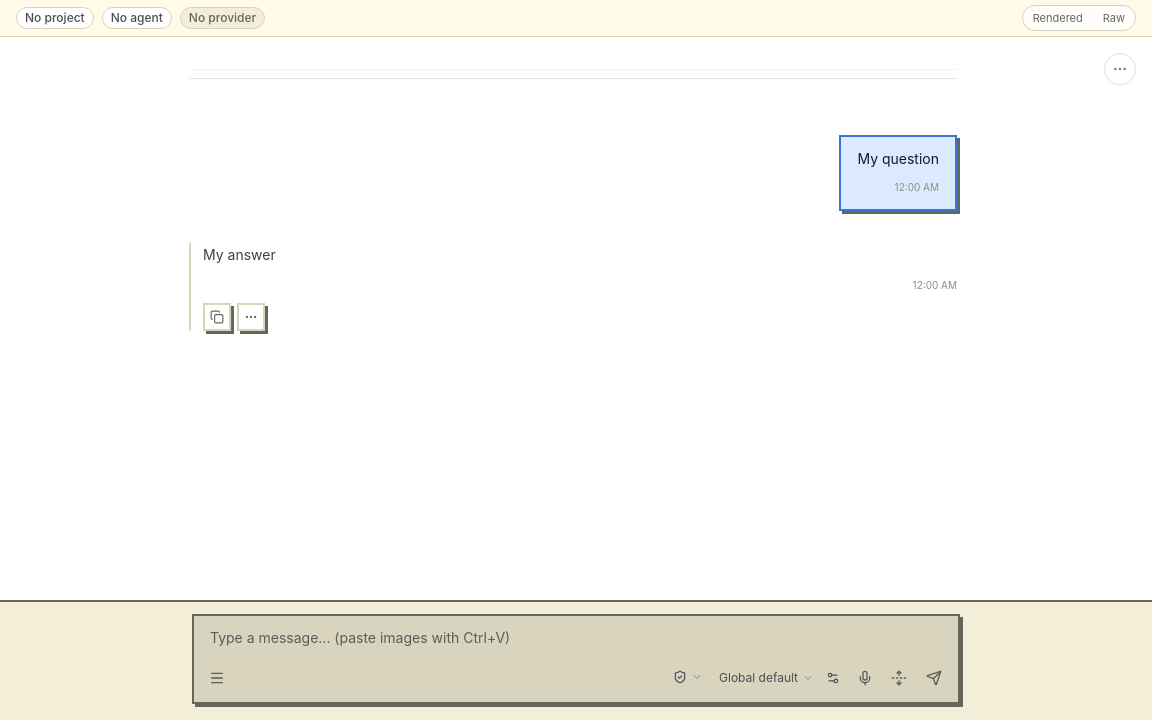
ChatWindow — Regenerate & Edit › allows canceling edit mode and restores messages
Expected: the text "My answer" is shown, 203,246 -> 276,263
Double-click the text "My question" at (898, 159), box 857,149 -> 939,169
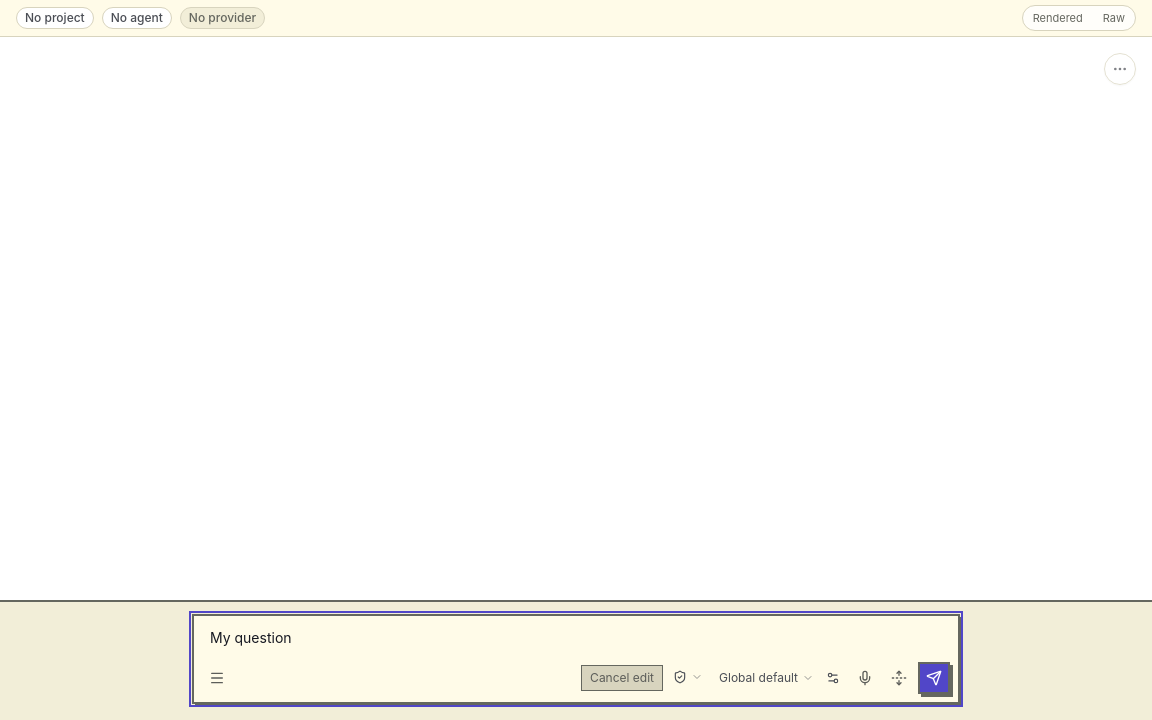
Now the text box named "message input" holds "My question", box 194,616 -> 958,656
Now the button "Cancel edit" is shown
Now the text "My answer" is gone
Click the button "Cancel edit" at (622, 678), box 581,665 -> 663,691
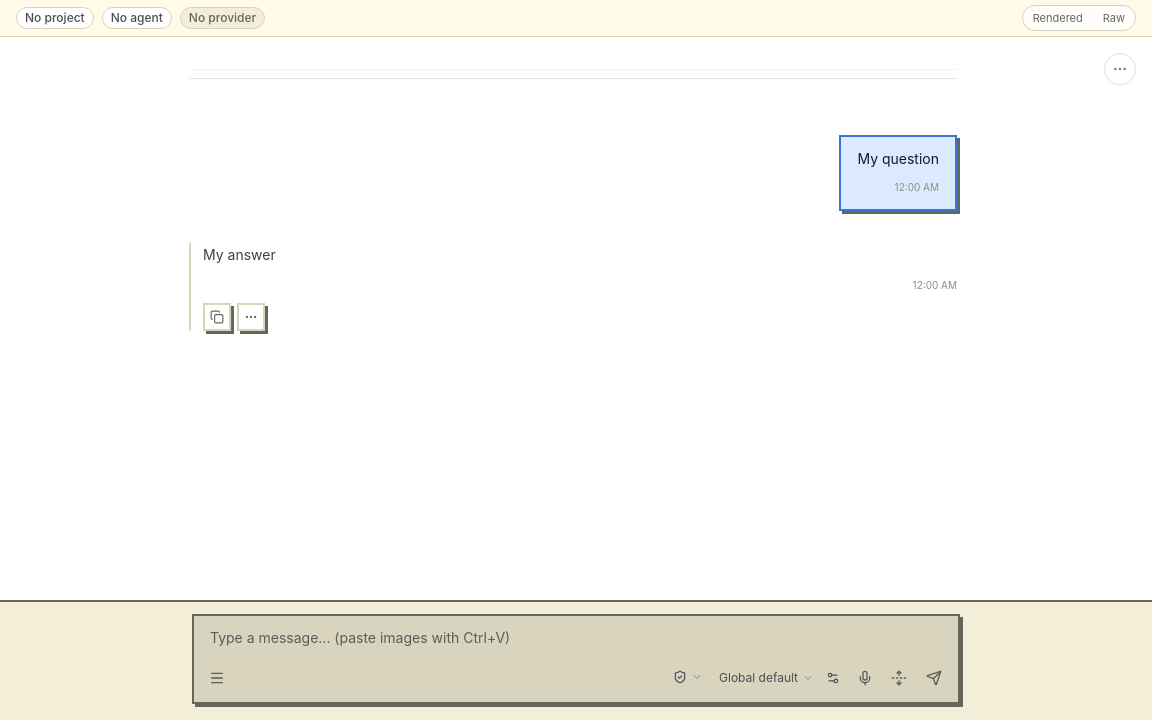
Now the text box named "message input" is empty, box 194,616 -> 958,656
Now the text "My answer" is shown, box 203,246 -> 276,263
